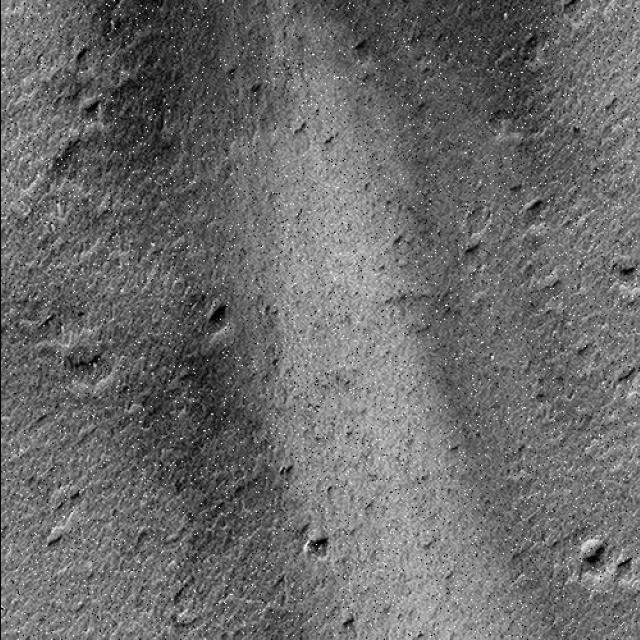crater: (0, 595, 44, 640), (568, 532, 610, 574), (530, 624, 576, 640)
